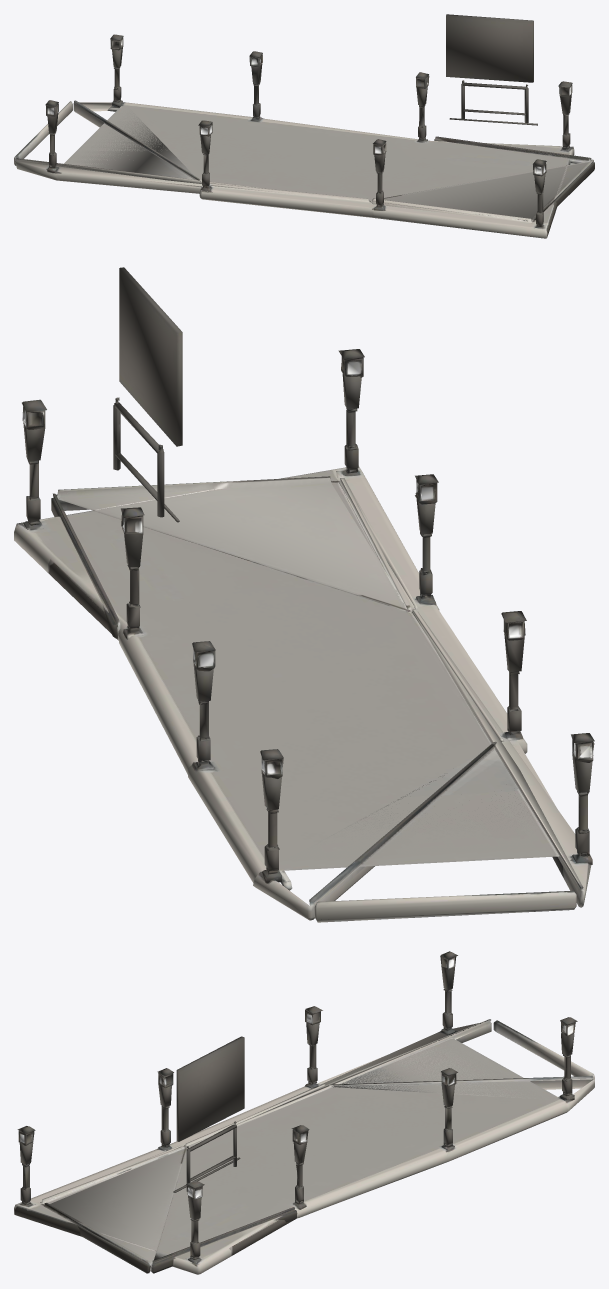
Rendered from 019e41a7-4955-7c49-9521-8c7aebdd52ec.glb.
3 views of the same model, one above another, from view 1: azimuth 30°, elevation 25°; view 2: azimuth 150°, elevation 25°; view 3: azimuth 270°, elevation 25° (orthographic). The views are drawn at different scales.
Parts seen in each view (by area): view 1: tripo_node_2cdc3263-0ccf-403c-af61-af57edb81a9c; view 2: tripo_node_2cdc3263-0ccf-403c-af61-af57edb81a9c; view 3: tripo_node_2cdc3263-0ccf-403c-af61-af57edb81a9c.
Part boxes in pixels (<box>): tripo_node_2cdc3263-0ccf-403c-af61-af57edb81a9c: <box>14,14,594,238</box>; tripo_node_2cdc3263-0ccf-403c-af61-af57edb81a9c: <box>14,267,594,922</box>; tripo_node_2cdc3263-0ccf-403c-af61-af57edb81a9c: <box>14,951,594,1274</box>.
Size of the model in its own units: 0.998 by 0.3379 by 0.998.
1 material, 1 textured.
